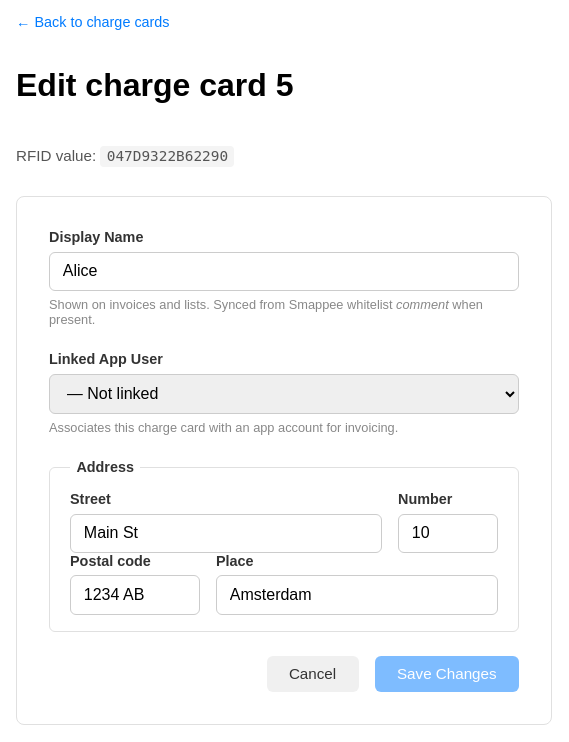
Test: EditChargingUser.vue › Save button enables after changing display name
The width and height of the screenshot is (569, 742).
Replace the text in the field with id "displayName" with "Alice Updated" at coordinates (284, 272), box x1=49 y1=252 x2=519 y2=291
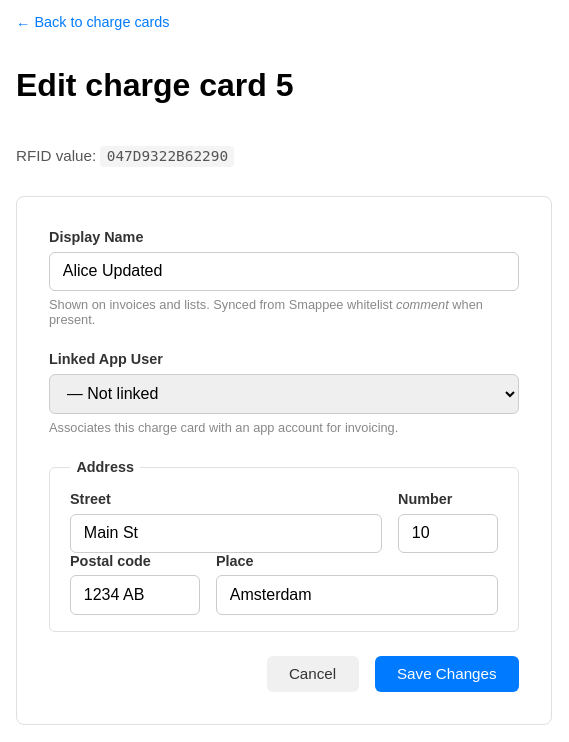
Now the submit button is enabled, box x1=375 y1=656 x2=519 y2=692
